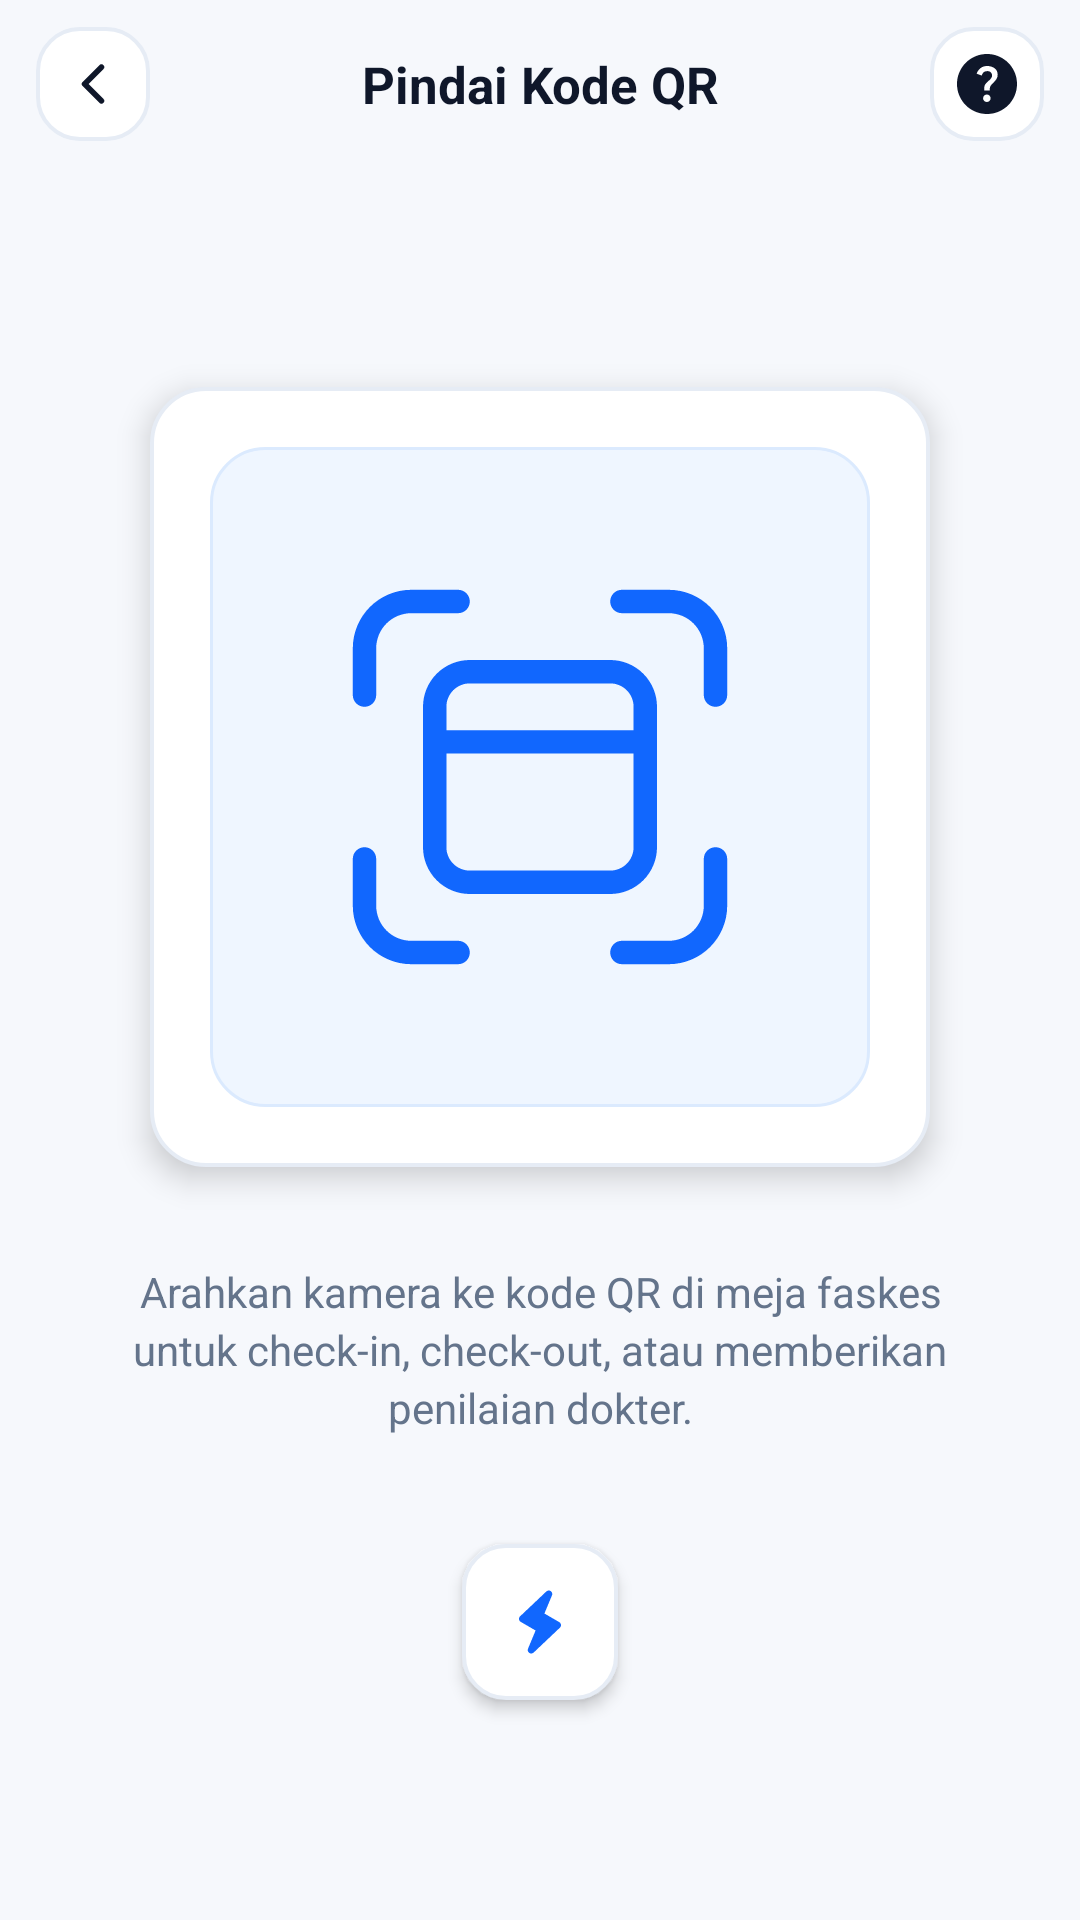

Icons on this 1080×1920 Android screen, each with the point to tap as point (x, y):
Bantuan: point (987, 84)
Kembali: point (93, 84)
Senter / Flash: point (540, 1622)
